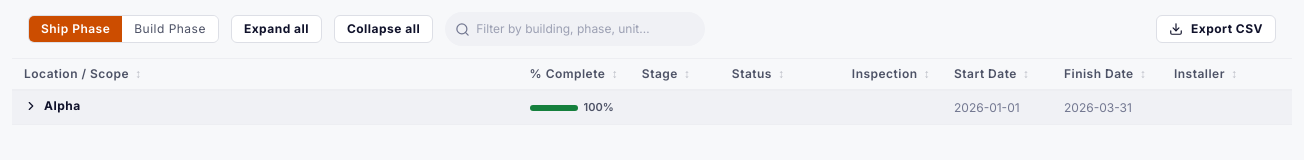
Test: LocationProgressBreakdown (component) › shows 'no rows match' message when search yields no results
Type "zzznomatch" into the search field with placeholder "Filter by building, phase, unit…". click: (585, 29)
box: [476,20,693,38]
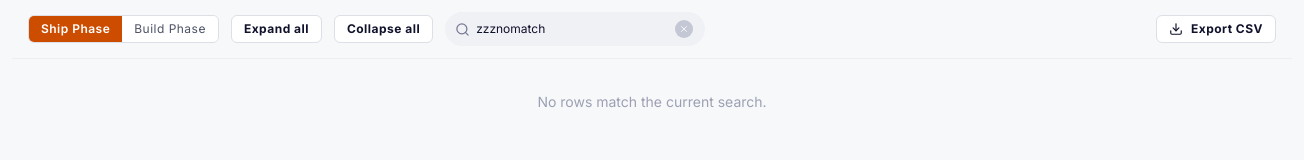
Check: the text "No rows match the current search." is shown, box [537,93,767,110]
